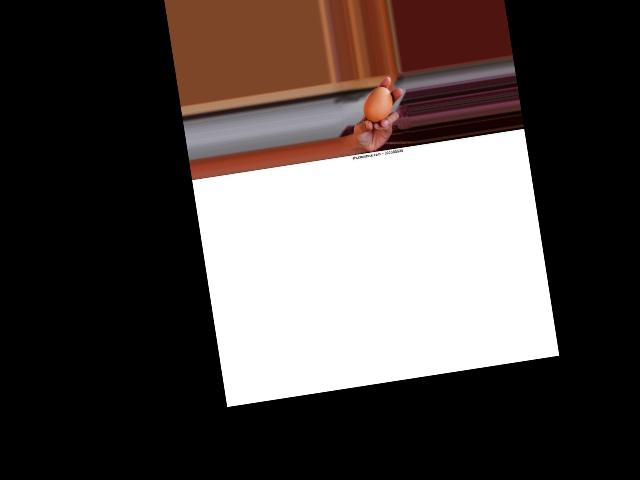egg: (361, 85, 396, 123)
